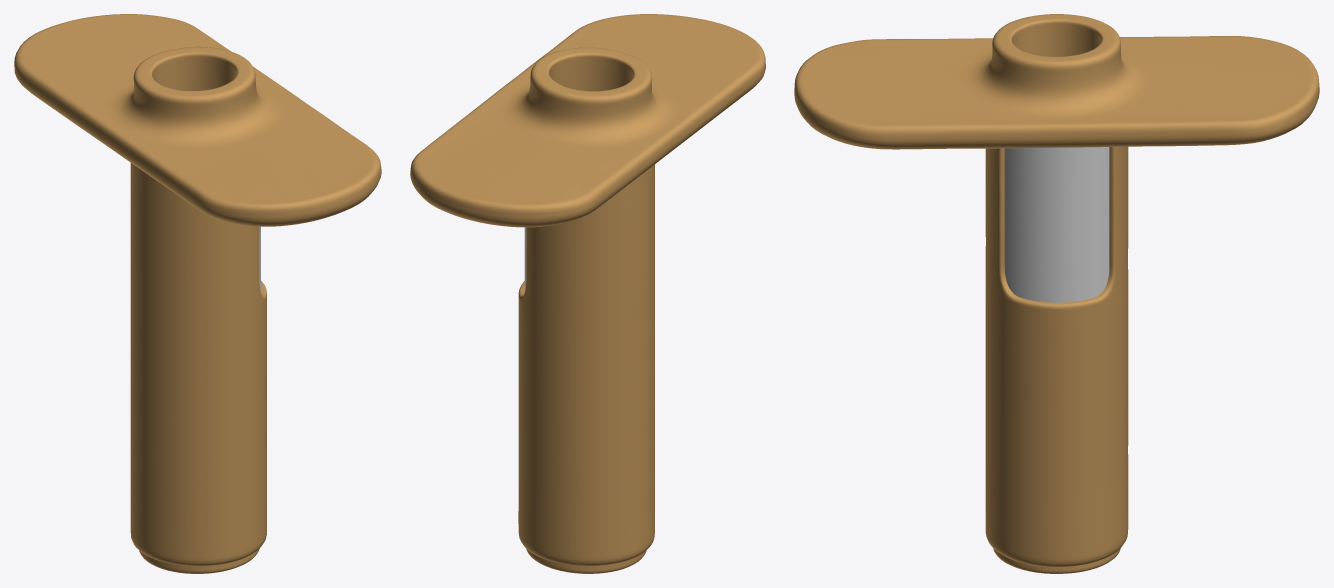
Rendered from lamp_01_assembly.glb.
3 views of the same model, side by side, from view 1: azimuth 30°, elevation 25°; view 2: azimuth 150°, elevation 25°; view 3: azimuth 270°, elevation 25° (orthographic). The views are drawn at different scales.
Parts seen in each view (by area): view 1: Ljomveg_Trunk, Ljomveg_Shade, Ljomveg_Finial; view 2: Ljomveg_Trunk, Ljomveg_Shade, Ljomveg_Finial; view 3: Ljomveg_Shade, Ljomveg_Trunk, Ljomveg_Diffuser, Ljomveg_Finial.
Boxes of the visible parts, <box> form: Ljomveg_Trunk: <box>130,163,266,566</box>; Ljomveg_Shade: <box>14,14,381,226</box>; Ljomveg_Finial: <box>139,549,259,573</box>; Ljomveg_Trunk: <box>518,164,654,565</box>; Ljomveg_Shade: <box>410,14,765,227</box>; Ljomveg_Finial: <box>526,549,646,573</box>; Ljomveg_Shade: <box>794,14,1319,149</box>; Ljomveg_Trunk: <box>985,146,1128,567</box>; Ljomveg_Diffuser: <box>1004,147,1109,302</box>; Ljomveg_Finial: <box>993,548,1120,573</box>.
Bounding box in the file's own units: 0.1161 × 0.289 × 0.269.
2 materials, 1 textured.
